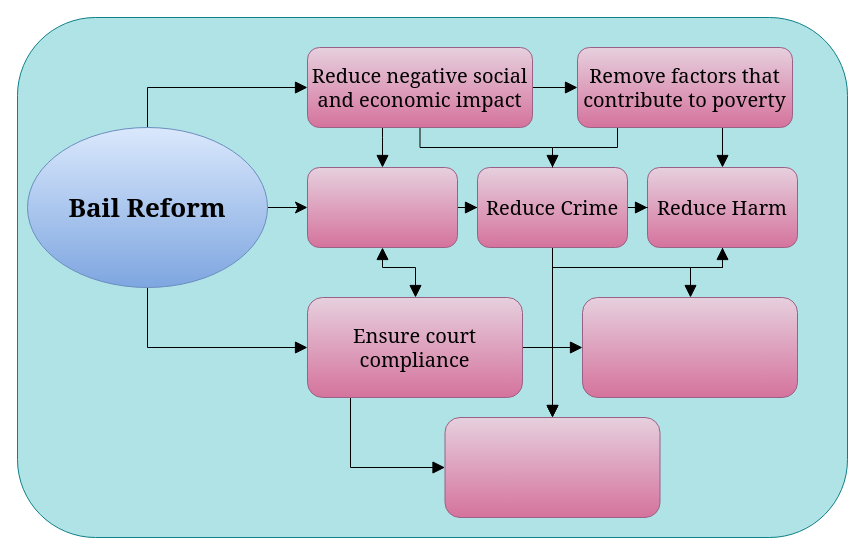
This 865x555 diagram has some shape labels left out. Each missing label, with the centre of its shape:
"Increase equality in the justice system" belongs at (690,347).
"Maintain Public Safety" belongs at (552,467).
"Reduce recidivism" belongs at (382,207).
